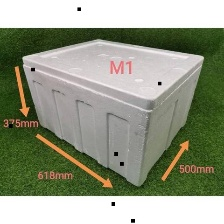foam_box: (17, 34, 208, 189)
